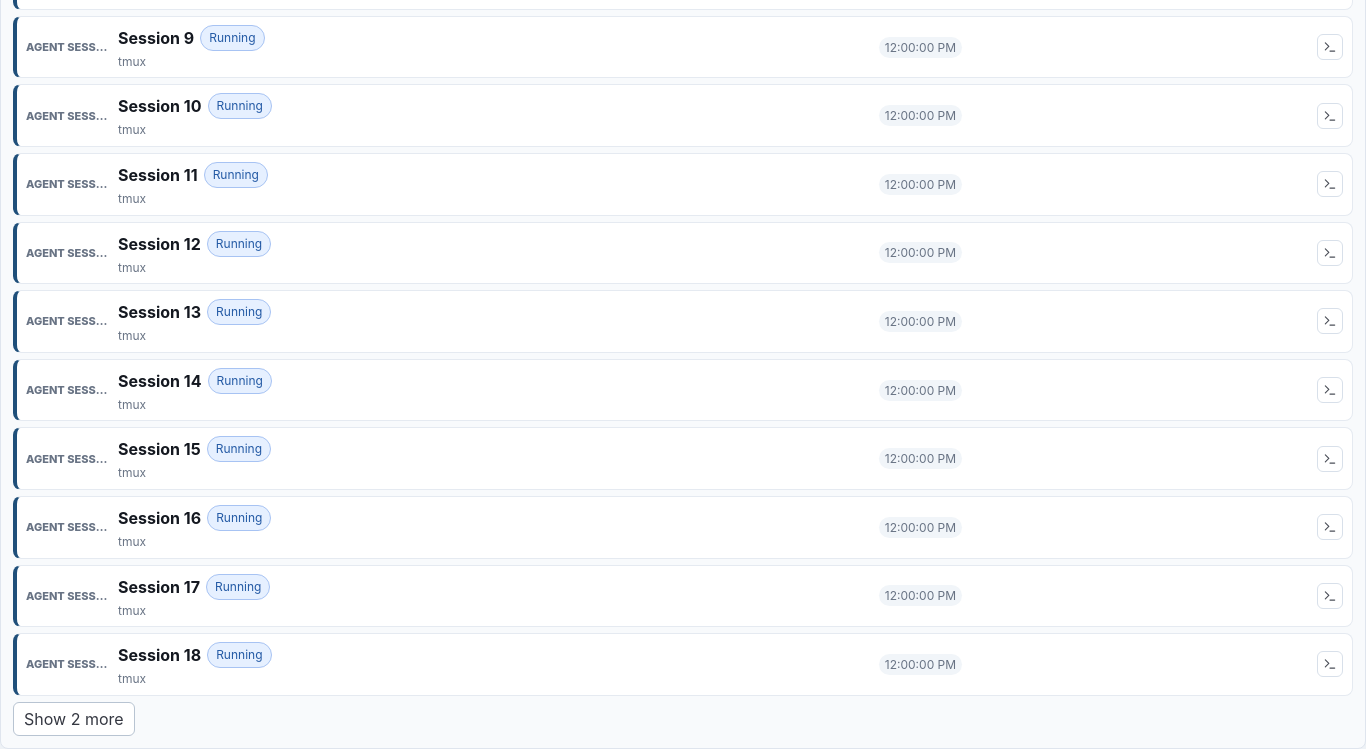
Test case: AssignmentBoard › shows overflow rows through an explicit expansion control
(page scrolled)
Expected: the text "Session 18" is shown, [118, 645, 201, 665]
Expected: the text "Session 19" is not shown
Click the button "Show 2 more": (74, 719) [13, 702, 135, 736]
(page scrolled)
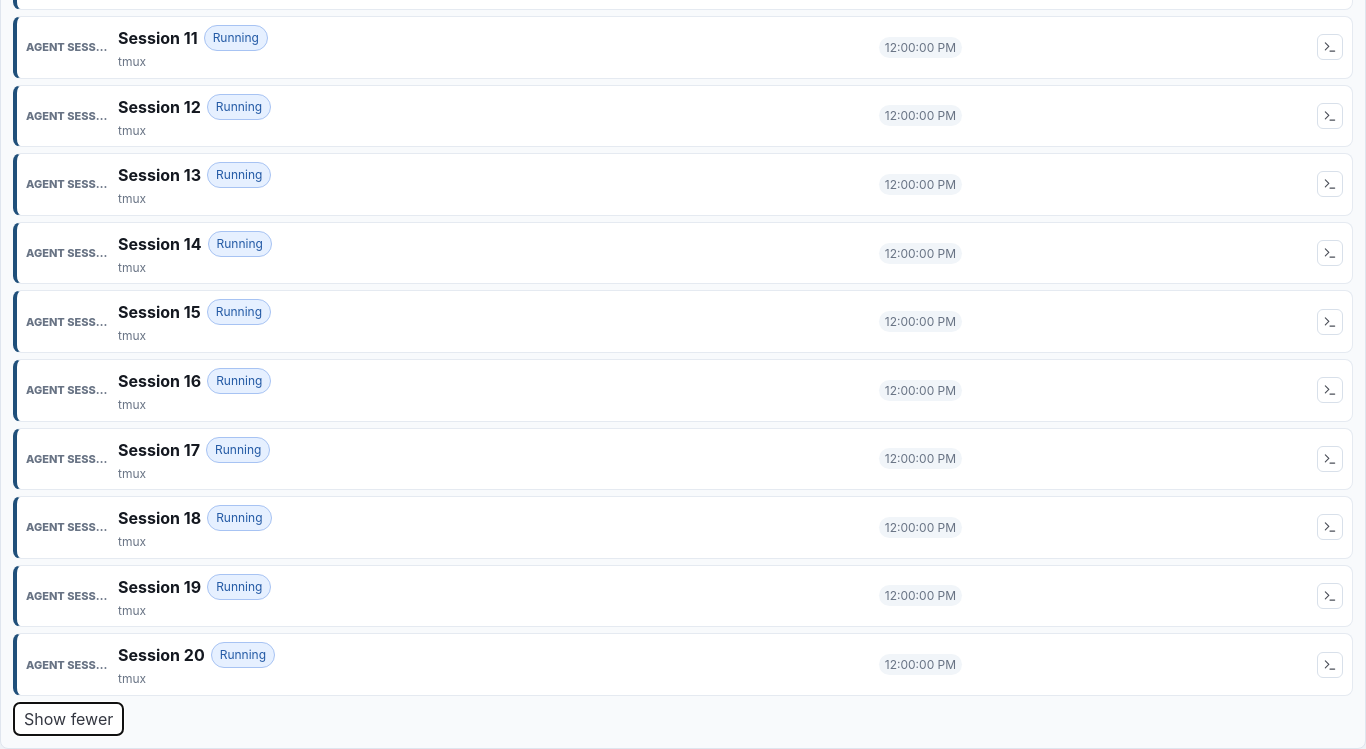
Expected: the text "Session 19" is shown, [118, 577, 201, 597]
Expected: the text "Session 20" is shown, [118, 645, 205, 665]
Expected: the button "Show fewer" is shown, [13, 702, 124, 736]
